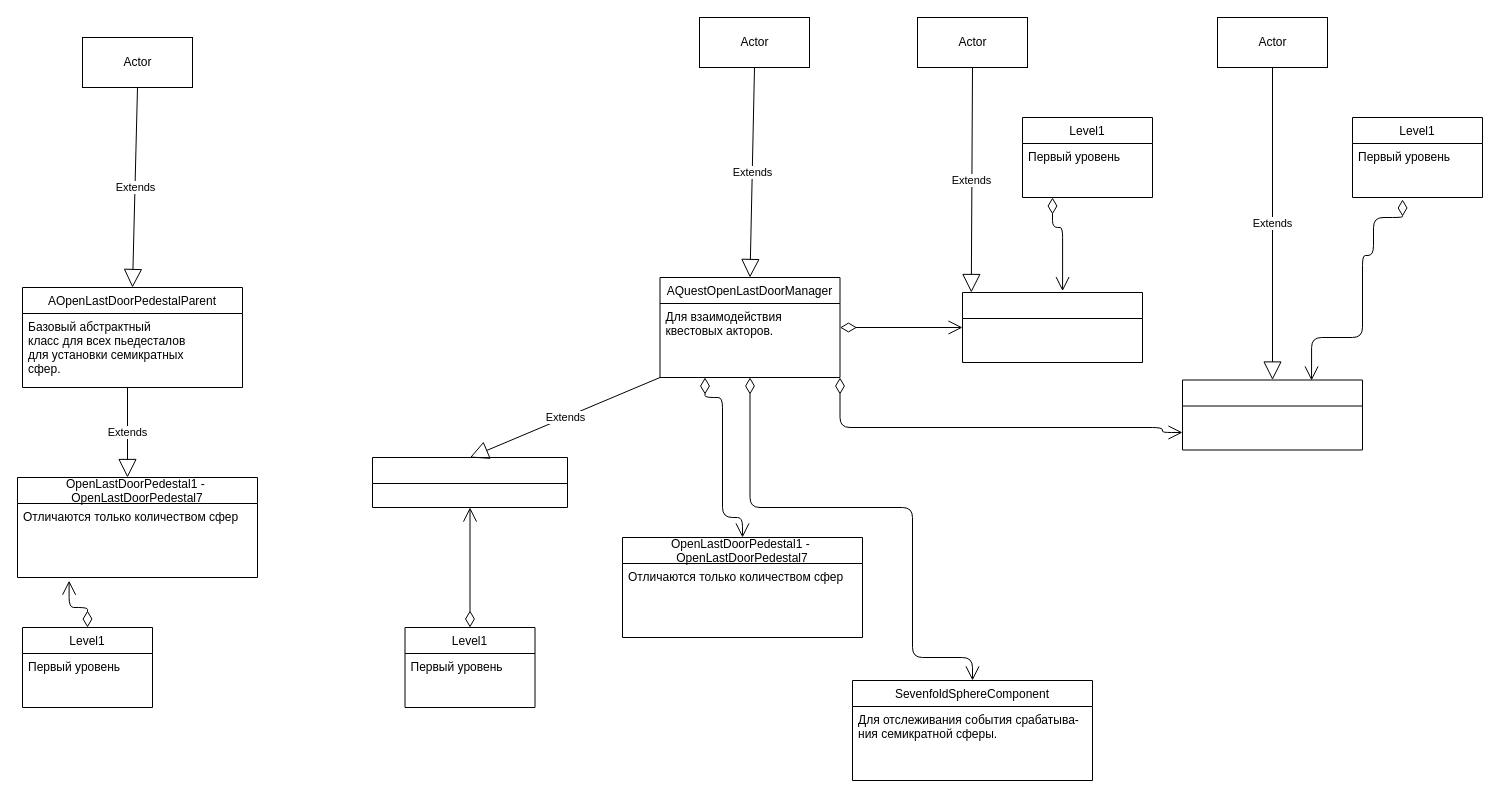
Image size: 1500x801. Some labels were removed from this diagram. The shapes that lost their labels are listed below. From the top down, each one's centre as x and y in pixels, then its label:
point (1052, 327): AInflatedSphere
point (1272, 414): ALastDoorLevel1
point (470, 482): BP_QuestOpenLastDoorManager
